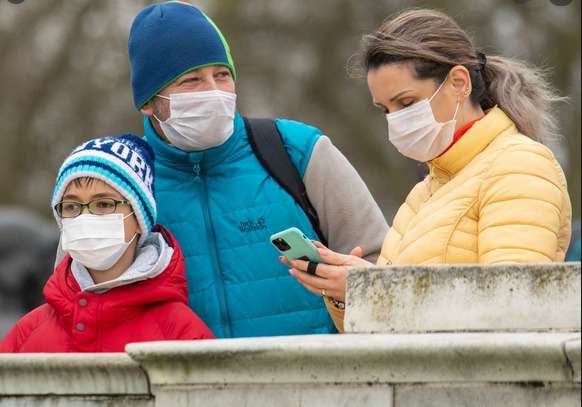with_mask: (366, 54, 473, 157), (136, 58, 240, 146), (54, 171, 141, 267)
